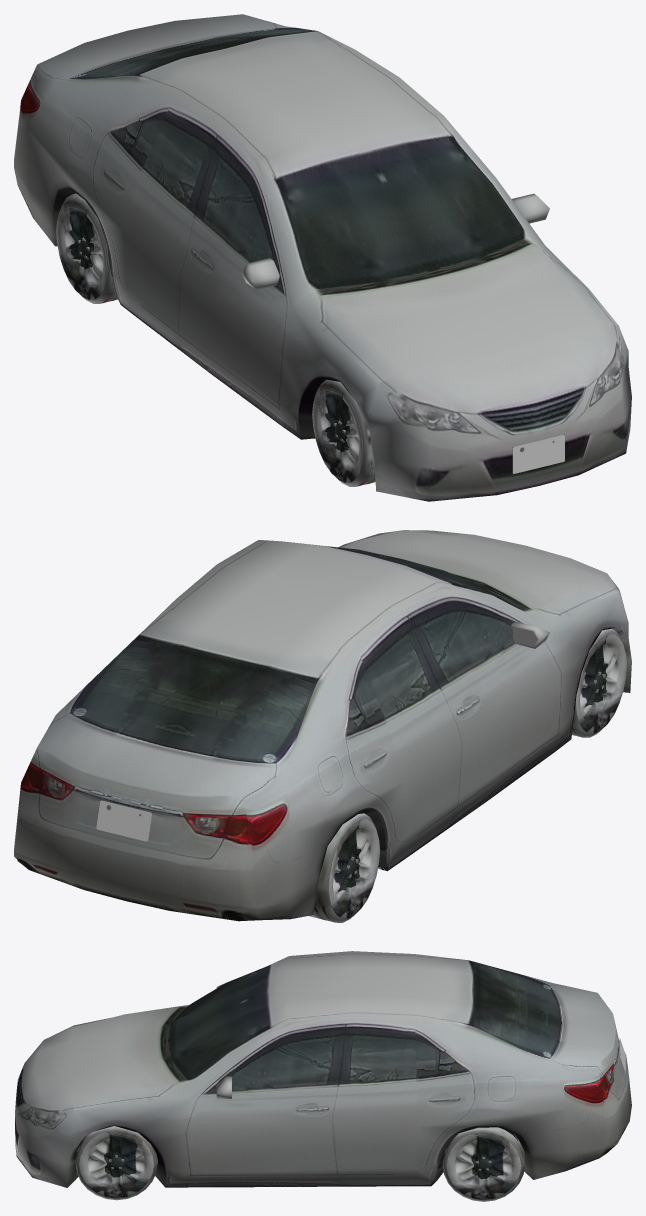
Rendered from markX279.obj.
The picture shows the model from 3 angles, top to bottom: view 1: azimuth 30°, elevation 25°; view 2: azimuth 150°, elevation 25°; view 3: azimuth 270°, elevation 25°; orthographic projection. The views are drawn at different scales.
Parts seen in each view (by area): view 1: body_Mesh_0, wheel_Cylinder, wheel.001_Cylinder, Plate_Plane; view 2: body_Mesh_0, wheel.001_Cylinder, wheel_Cylinder, Plate.001_Plane; view 3: body_Mesh_0, wheel.001_Cylinder, wheel_Cylinder.
Boxes of the visible parts, bbox=[...] form: body_Mesh_0: bbox=[14, 14, 631, 501]; wheel_Cylinder: bbox=[312, 379, 375, 486]; wheel.001_Cylinder: bbox=[56, 193, 117, 303]; Plate_Plane: bbox=[512, 434, 564, 474]; body_Mesh_0: bbox=[14, 530, 631, 921]; wheel.001_Cylinder: bbox=[309, 813, 380, 922]; wheel_Cylinder: bbox=[572, 628, 626, 737]; Plate.001_Plane: bbox=[96, 800, 152, 841]; body_Mesh_0: bbox=[15, 951, 631, 1187]; wheel.001_Cylinder: bbox=[442, 1127, 524, 1201]; wheel_Cylinder: bbox=[75, 1126, 157, 1200].
Bounding box in the file's own units: 1.89 × 1.43 × 4.64.
